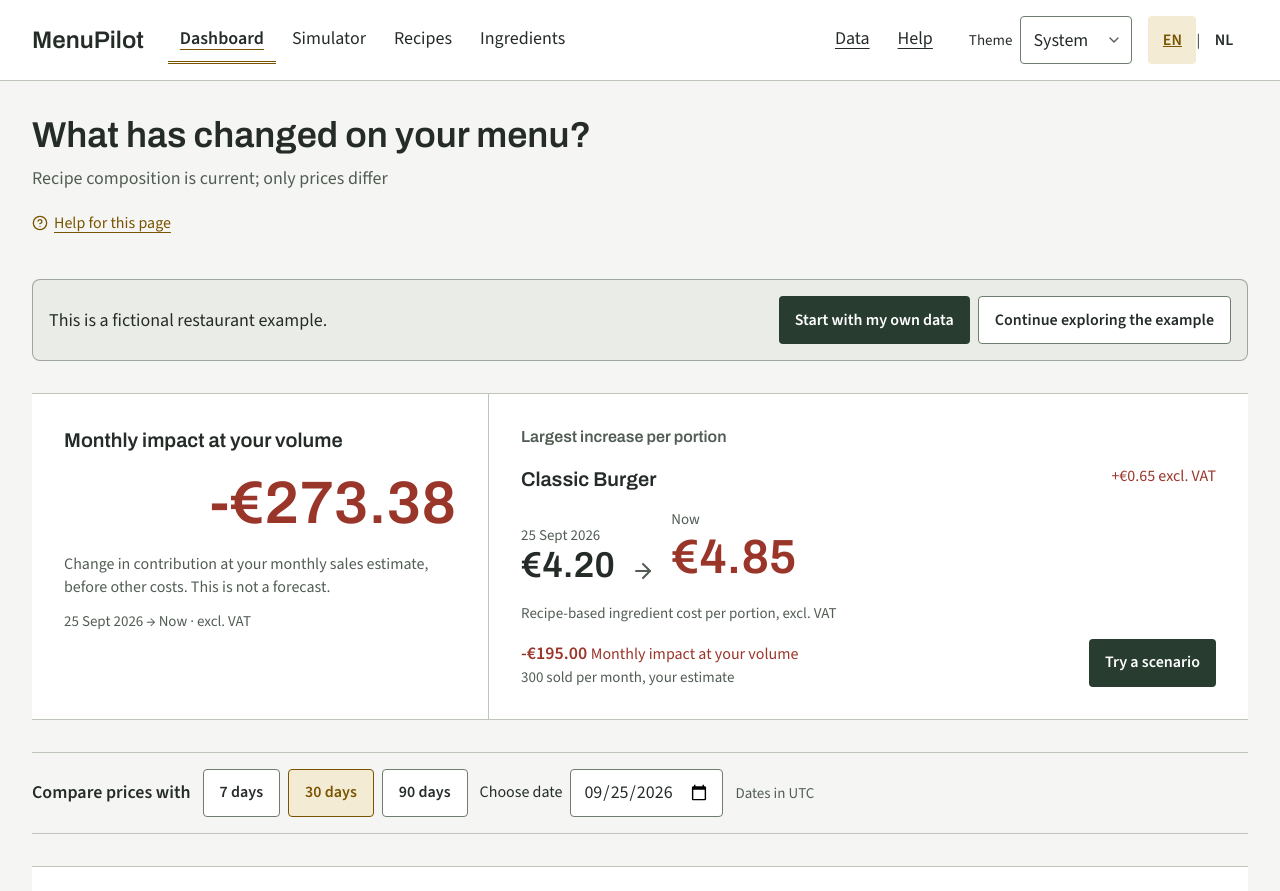
Data page › is reachable from the main navigation and explains where data lives
This screenshot has width=1280, height=891.
Click the link "Data".
click(852, 38)  # box [835,26,870,50]
(page scrolled)
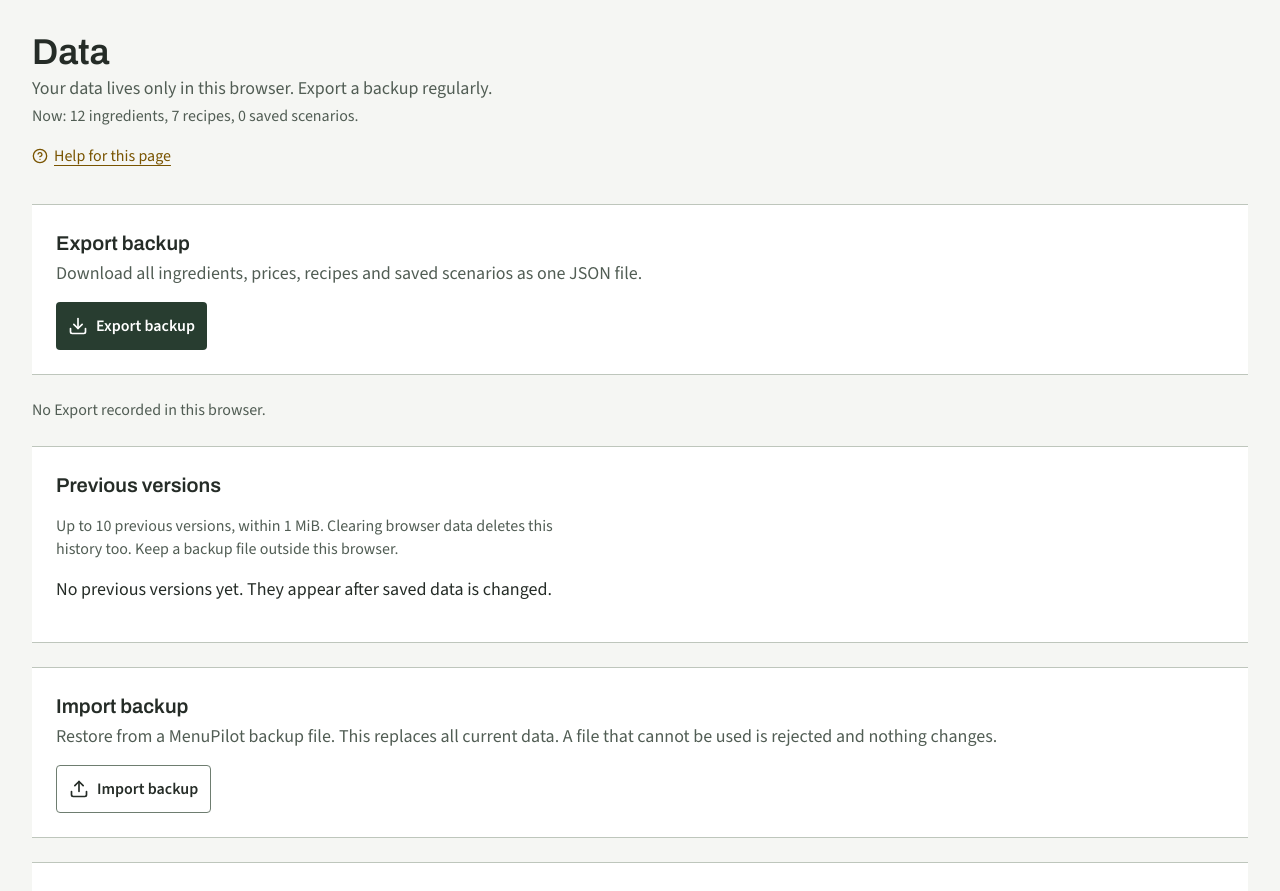
expect the heading "Data" is shown: met, box [32,32,110,72]
expect the text "Your data lives only in this browser. Export a backup regularly." is shown: met, box [32,76,492,100]
